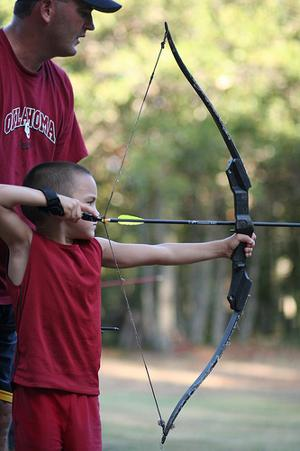person: (1, 154, 257, 446)
